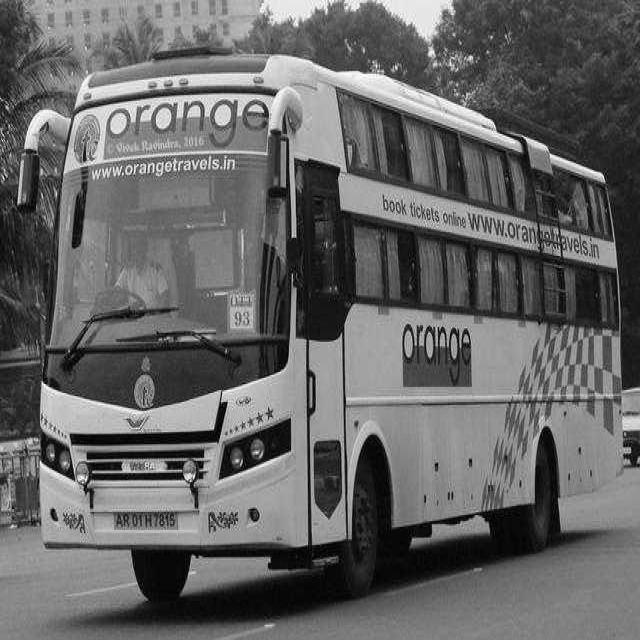Bus: (20, 52, 621, 600)
